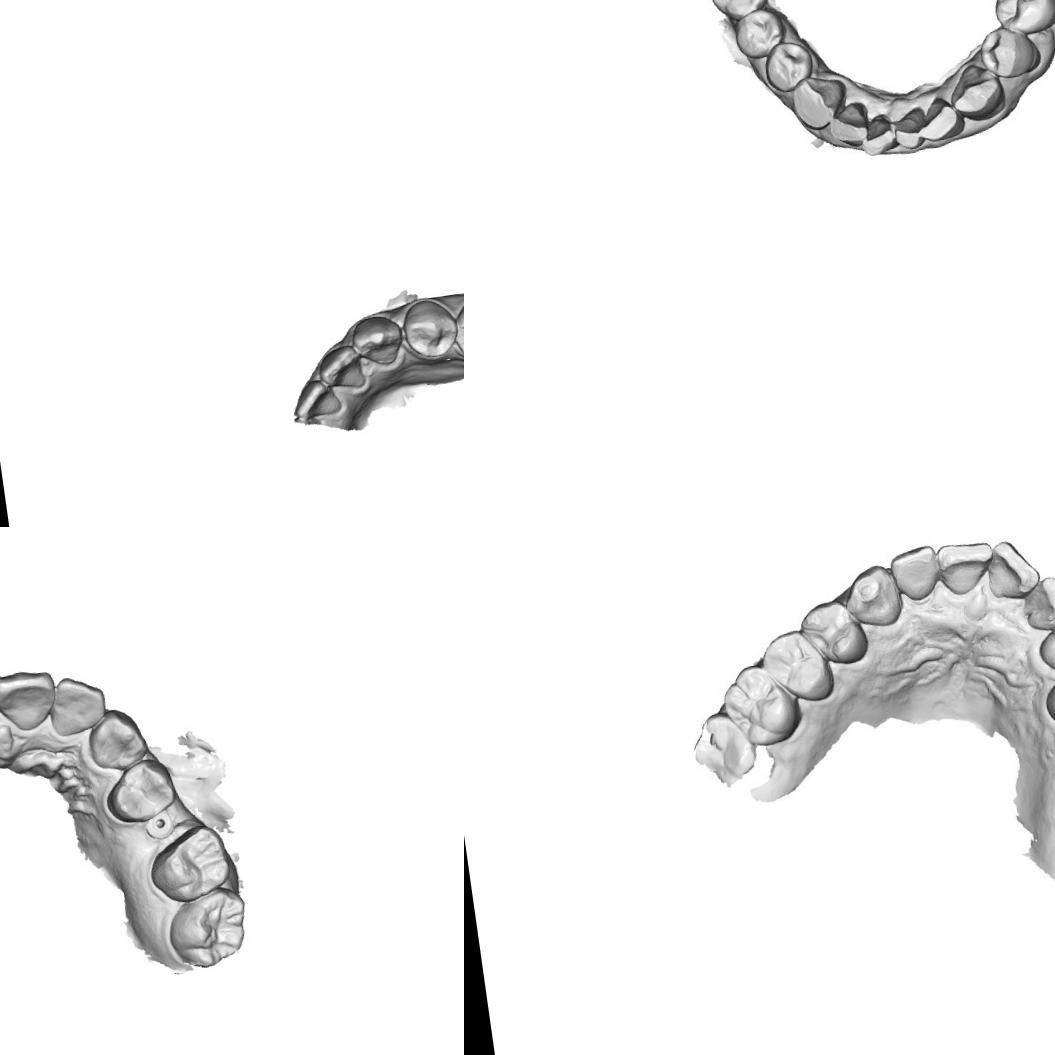canine: (82, 703, 153, 774), (944, 60, 1008, 125), (788, 72, 852, 134), (349, 310, 408, 370), (845, 565, 900, 627), (1038, 619, 1055, 675)
implant: (142, 808, 180, 842)
incisor: (45, 671, 111, 739), (0, 665, 57, 732), (938, 538, 994, 593), (889, 546, 941, 602), (983, 539, 1034, 596), (313, 342, 368, 394), (914, 93, 968, 144), (288, 374, 344, 423), (825, 100, 873, 150), (858, 112, 899, 158), (1021, 578, 1055, 629), (892, 105, 928, 151)
molar: (164, 884, 256, 972), (142, 822, 235, 906), (718, 664, 798, 748), (704, 0, 772, 24)
premolar: (762, 629, 832, 709), (102, 754, 179, 826), (398, 292, 461, 364), (976, 22, 1044, 82), (800, 599, 862, 664), (731, 5, 788, 62), (761, 37, 816, 94), (989, 0, 1055, 39), (450, 293, 464, 366)
